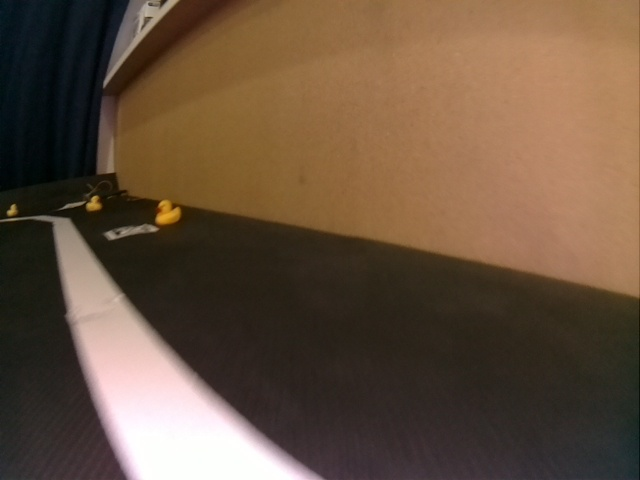Duckie: (156, 201, 179, 224), (87, 197, 100, 210), (9, 204, 18, 216)
QR code: (106, 224, 155, 240)
